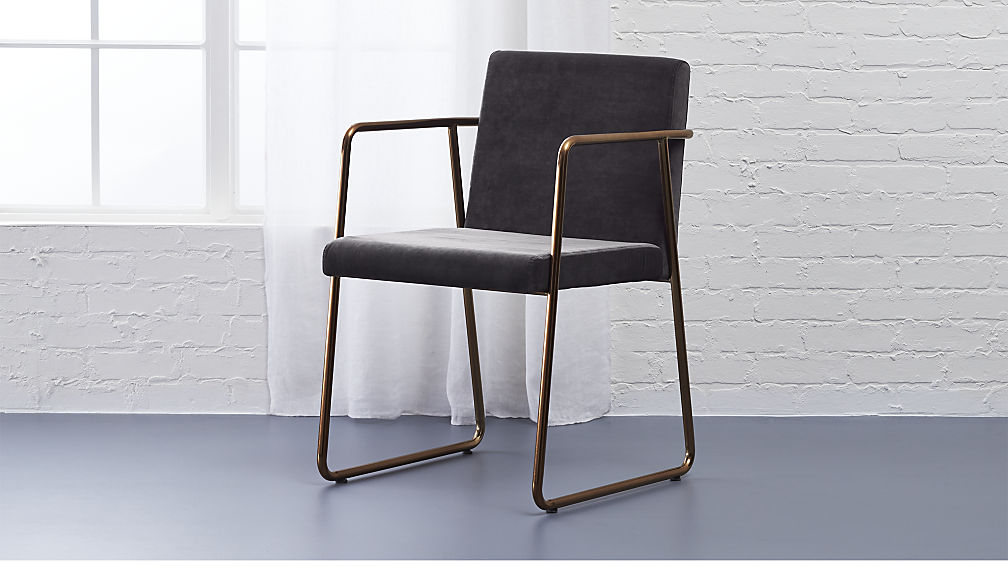chairs: (308, 42, 715, 513)
